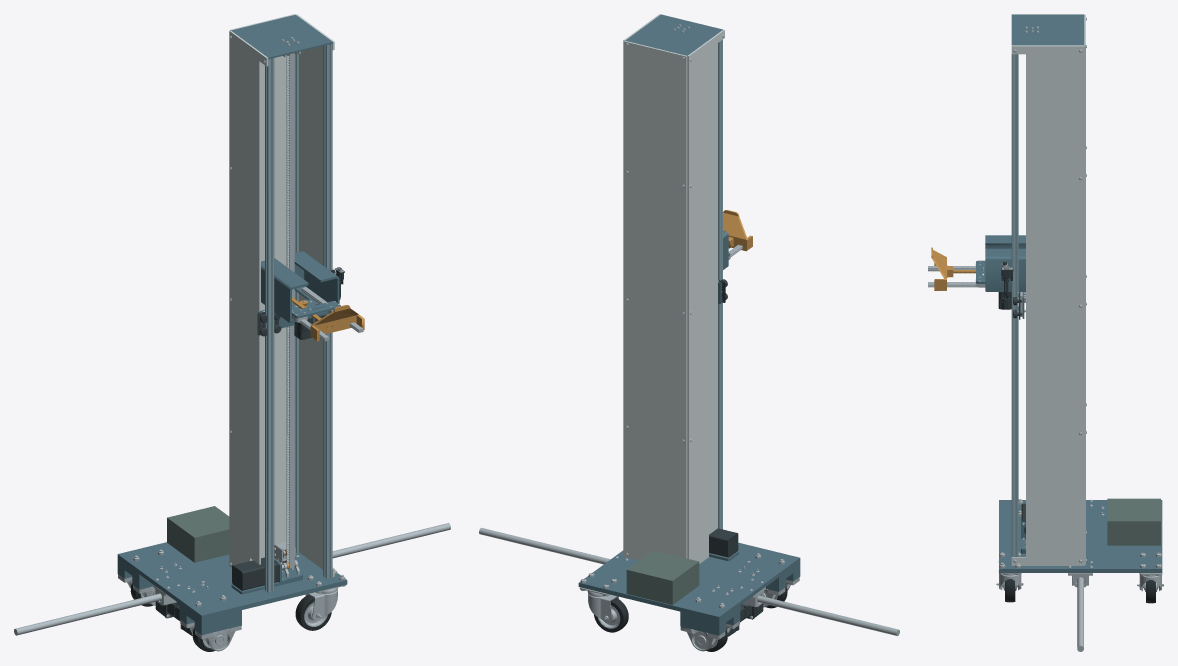
Rendered from MVP_Explorer.glb.
3 views of the same model, side by side, from view 1: azimuth 30°, elevation 25°; view 2: azimuth 150°, elevation 25°; view 3: azimuth 270°, elevation 25° (orthographic). The views are drawn at different scales.
Visible parts, largest first — view 1: CoverLeftBody, MastBody, CoverRightBody, CoverBackBody, BaseBody, LiftMembersBody, ExtensionBody, PowerBody, SiteGuideBody, DriveFrontBody, LiftDriveBody, CasterFrontBody (+2 smaller); view 2: CoverBackBody, CoverLeftBody, BaseBody, MastBody, PowerBody, SiteGuideBody, DriveRearBody, CasterRearBody, DriveFrontBody, LiftDriveBody, HookBody; view 3: CoverRightBody, MastBody, BaseBody, ExtensionBody, PowerBody, CoverBackBody, CasterRearBody, CasterFrontBody, HookBody, SiteGuideBody, RackBody.
Part boxes in pixels (x1,y1,x2,y2): CoverLeftBody: (229, 30, 268, 567); MastBody: (231, 14, 332, 592); CoverRightBody: (296, 14, 334, 576); CoverBackBody: (230, 14, 294, 560); BaseBody: (117, 542, 347, 619); LiftMembersBody: (286, 53, 294, 568); ExtensionBody: (261, 251, 363, 341); PowerBody: (167, 506, 229, 562); SiteGuideBody: (14, 523, 450, 635); DriveFrontBody: (175, 581, 241, 651); LiftDriveBody: (231, 37, 302, 594); CasterFrontBody: (295, 570, 346, 630); CoverBackBody: (624, 41, 687, 560); CoverLeftBody: (687, 29, 724, 563); BaseBody: (578, 542, 800, 620); MastBody: (625, 14, 722, 529); PowerBody: (626, 550, 699, 604); SiteGuideBody: (479, 527, 899, 636); DriveRearBody: (680, 585, 744, 651); CasterRearBody: (579, 573, 628, 632); DriveFrontBody: (737, 553, 800, 620); LiftDriveBody: (673, 24, 738, 560); HookBody: (723, 210, 752, 251); CoverRightBody: (1011, 45, 1084, 565); MastBody: (1011, 14, 1084, 557); BaseBody: (999, 500, 1162, 572); ExtensionBody: (928, 235, 1025, 309); PowerBody: (1107, 498, 1160, 545); CoverBackBody: (1084, 14, 1086, 565); CasterRearBody: (1137, 552, 1163, 603); CasterFrontBody: (996, 552, 1023, 602); HookBody: (931, 247, 953, 290); SiteGuideBody: (1077, 577, 1083, 651); RackBody: (953, 260, 985, 287).
Bounding box in the file's own units: 1.36 × 1.75 × 0.6603.
